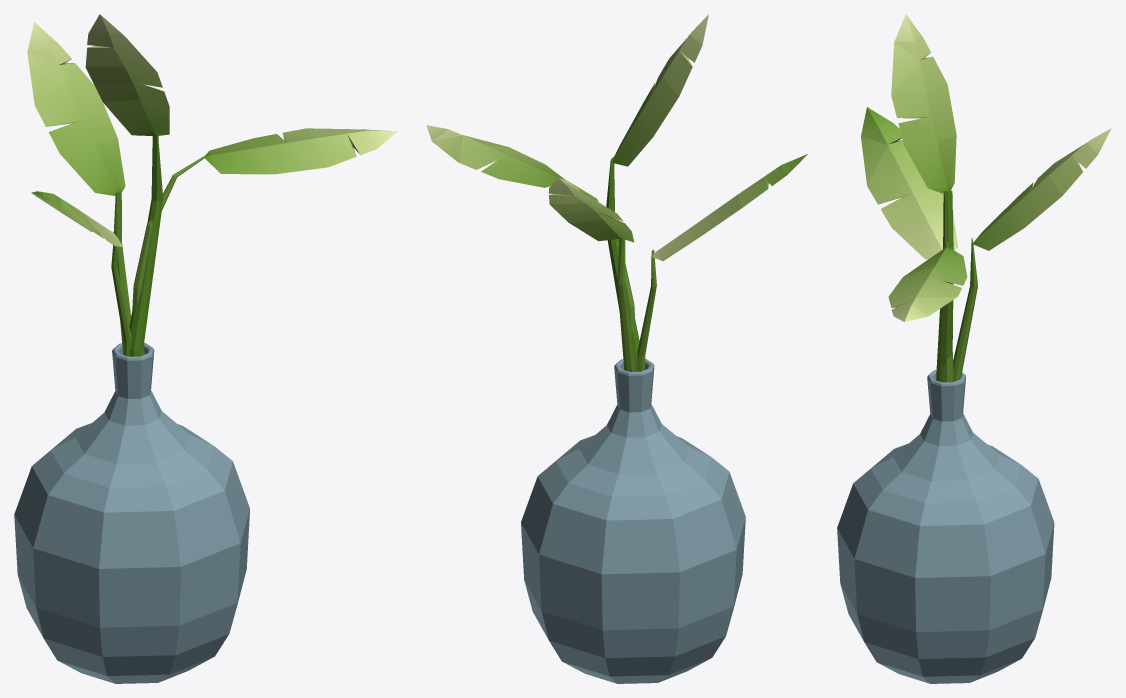
File: HousePlant.fbx
The picture shows the model from 3 angles, left to right: view 1: azimuth 30°, elevation 25°; view 2: azimuth 150°, elevation 25°; view 3: azimuth 270°, elevation 25°; orthographic projection. The views are drawn at different scales.
Visible parts, largest first — view 1: HousePlant; view 2: HousePlant; view 3: HousePlant.
Boxes of the visible parts, x1,y1,x2,y2 form: HousePlant: (14, 14, 396, 683); HousePlant: (426, 14, 807, 683); HousePlant: (837, 14, 1111, 683).
Size of the model in its own units: 0.8569 by 1.46 by 0.5817.
Materials: 1 (1 with a texture image).
